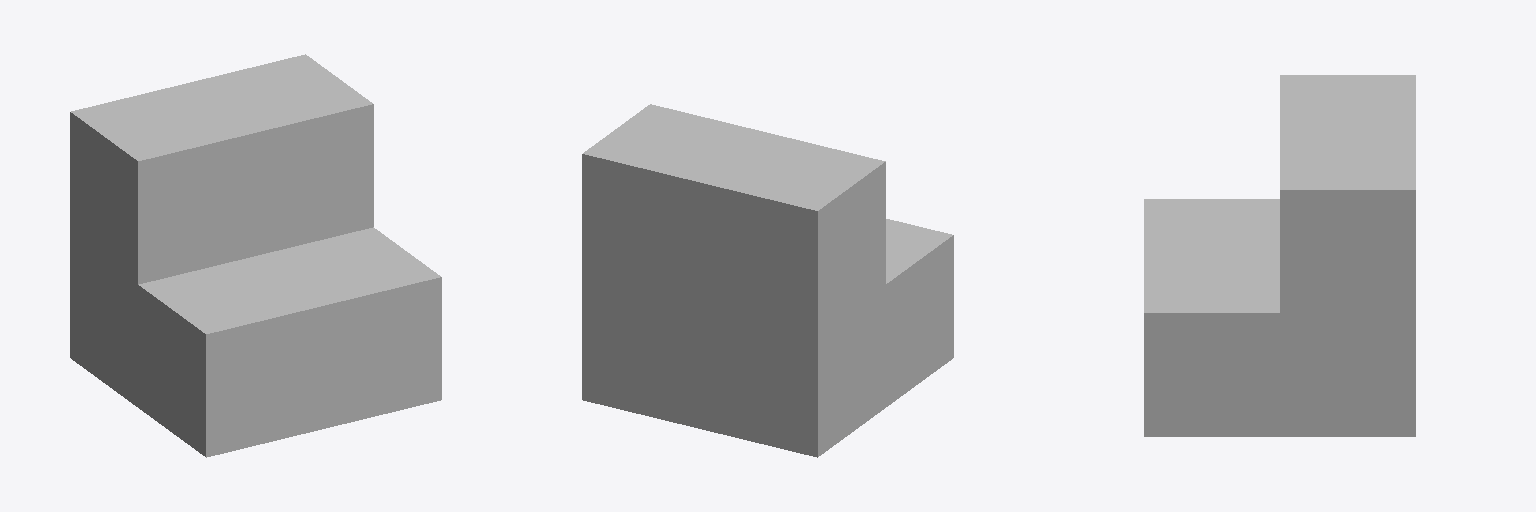
Rendered from stair.obj.
The picture shows the model from 3 angles: view 1: azimuth 30°, elevation 25°; view 2: azimuth 150°, elevation 25°; view 3: azimuth 270°, elevation 25°; orthographic projection.
Visible parts, largest first — view 1: cuboid; view 2: cuboid; view 3: cuboid.
Boxes of the visible parts, x1=… form: cuboid: x1=70, y1=54, x2=441, y2=457; cuboid: x1=582, y1=104, x2=953, y2=457; cuboid: x1=1144, y1=75, x2=1415, y2=436.
Bounding box in the file's own units: 1 × 1 × 1.